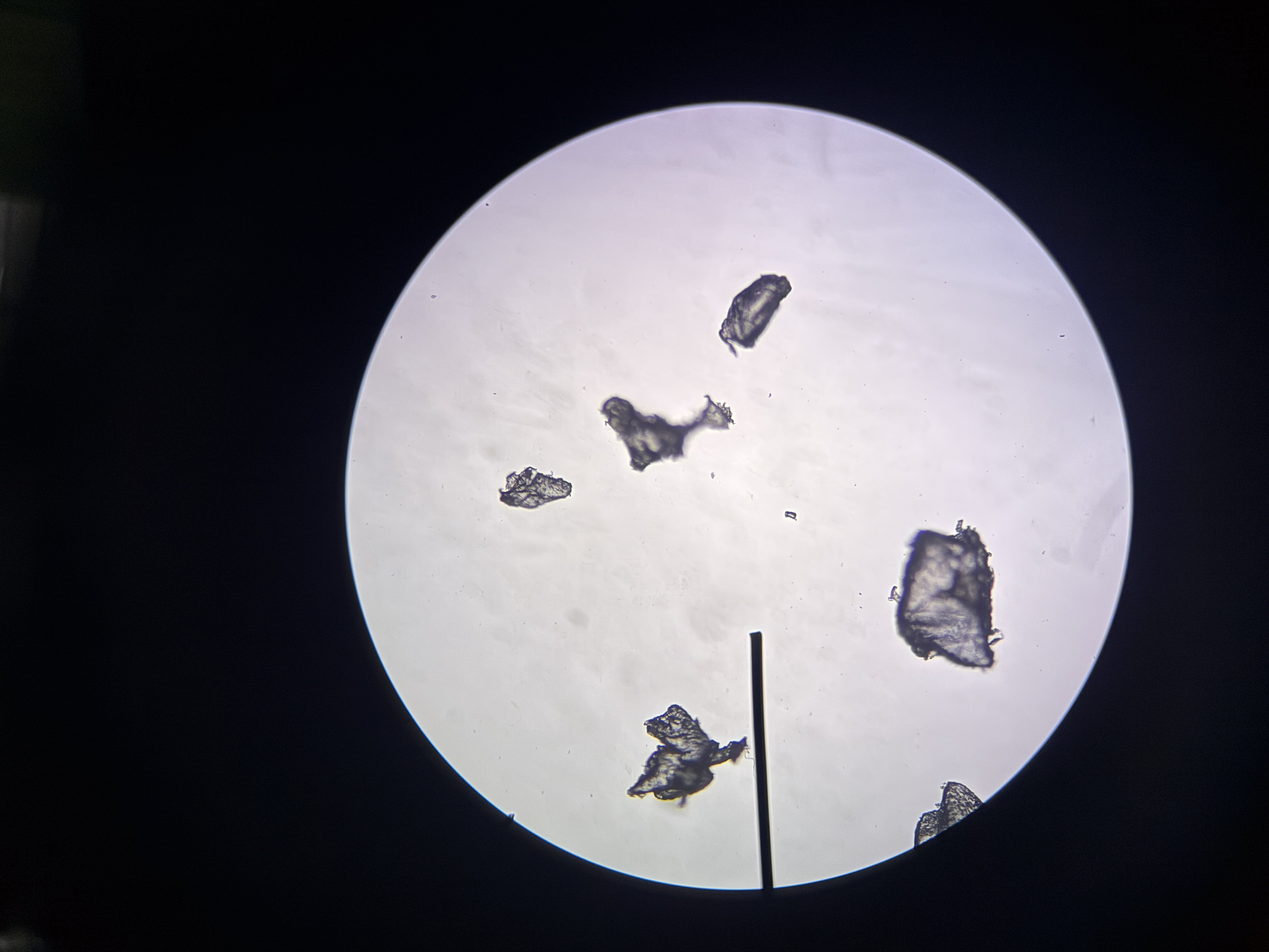microplastic: (888, 520, 1005, 674), (627, 704, 749, 808), (597, 395, 735, 472), (719, 274, 792, 358), (914, 781, 985, 851), (499, 466, 573, 509), (785, 511, 797, 521), (711, 472, 715, 479)
